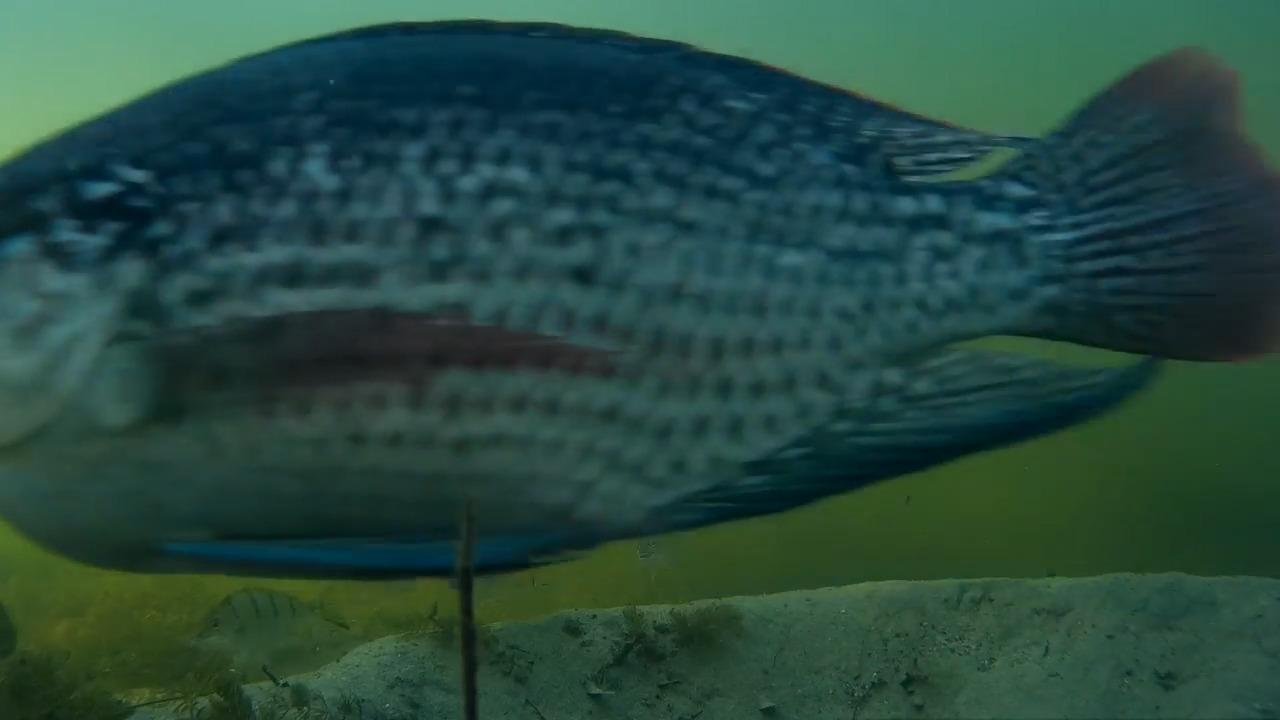Tilapia: (0, 6, 1280, 575), (192, 578, 357, 678)
